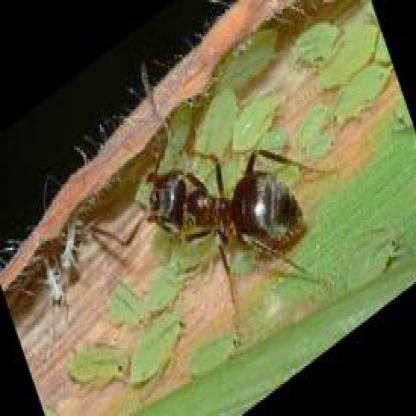schizaphis graminum: (132, 299, 186, 387), (316, 24, 379, 90), (232, 95, 278, 150), (66, 345, 128, 382)
